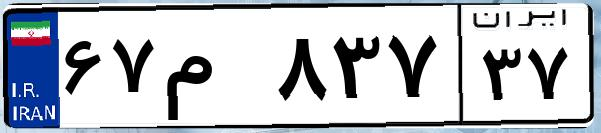3: (330, 28, 385, 110), (475, 38, 525, 113)
6: (57, 26, 110, 100)
7: (385, 28, 445, 110), (525, 38, 570, 115), (110, 28, 158, 98)
8: (270, 28, 330, 110)
م: (158, 20, 270, 120)
